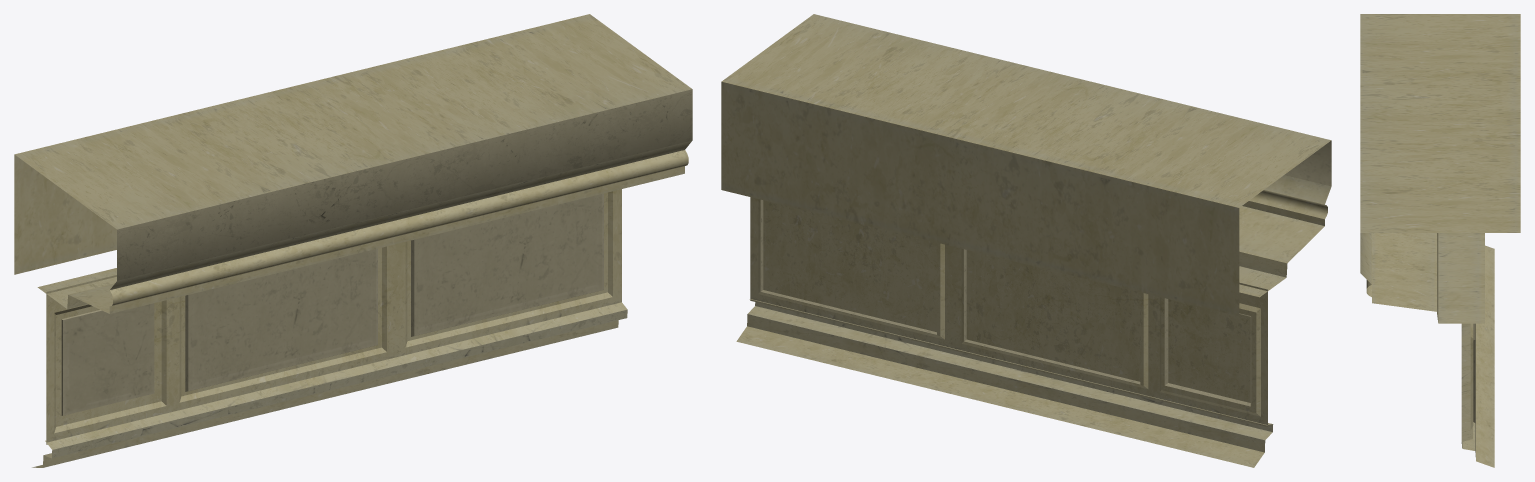
File: Cornice_Marble_Center.gltf
3 renders of one model, left to right at view 1: azimuth 30°, elevation 25°; view 2: azimuth 150°, elevation 25°; view 3: azimuth 270°, elevation 25°, orthographic. The views are drawn at different scales.
Parts seen in each view (by area): view 1: Cornice_Marble_Center; view 2: Cornice_Marble_Center; view 3: Cornice_Marble_Center.
Part boxes in pixels (x1,y1,x2,y2): Cornice_Marble_Center: (14,14,692,467); Cornice_Marble_Center: (721,14,1331,467); Cornice_Marble_Center: (1360,14,1520,467).
Size of the model in its own units: 2 by 1 by 0.6185.
2 materials, 2 textured.
